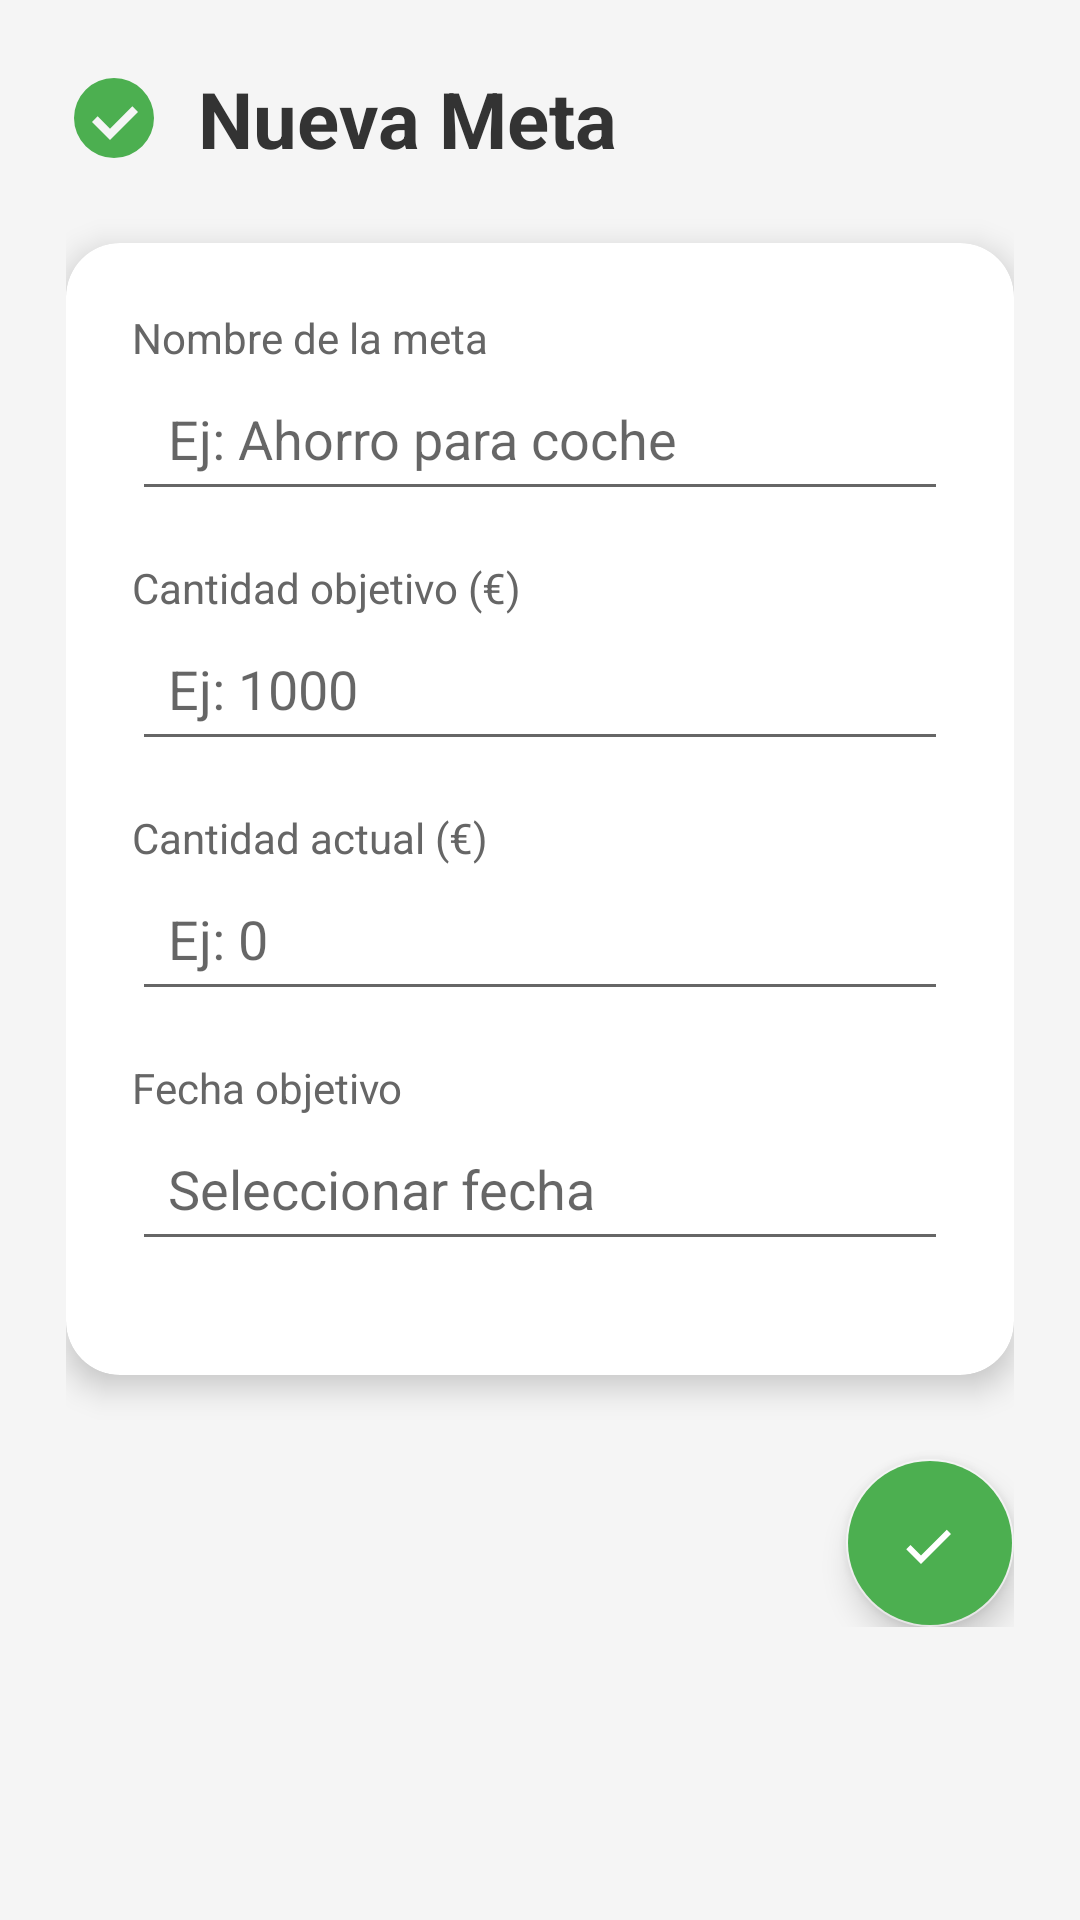

Icons on this 1080x1920 Android screen, each with the point to tap as (x=x, y=y):
check: (x=931, y=1544)
